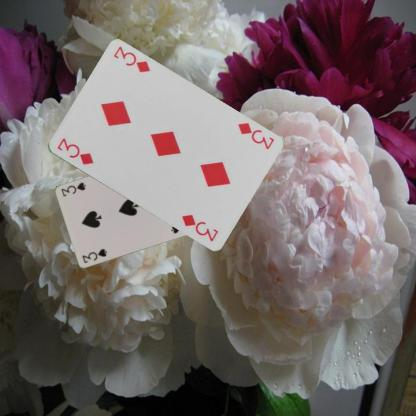3d: (235, 120, 275, 152), (54, 136, 94, 166)
3s: (79, 246, 108, 265)
